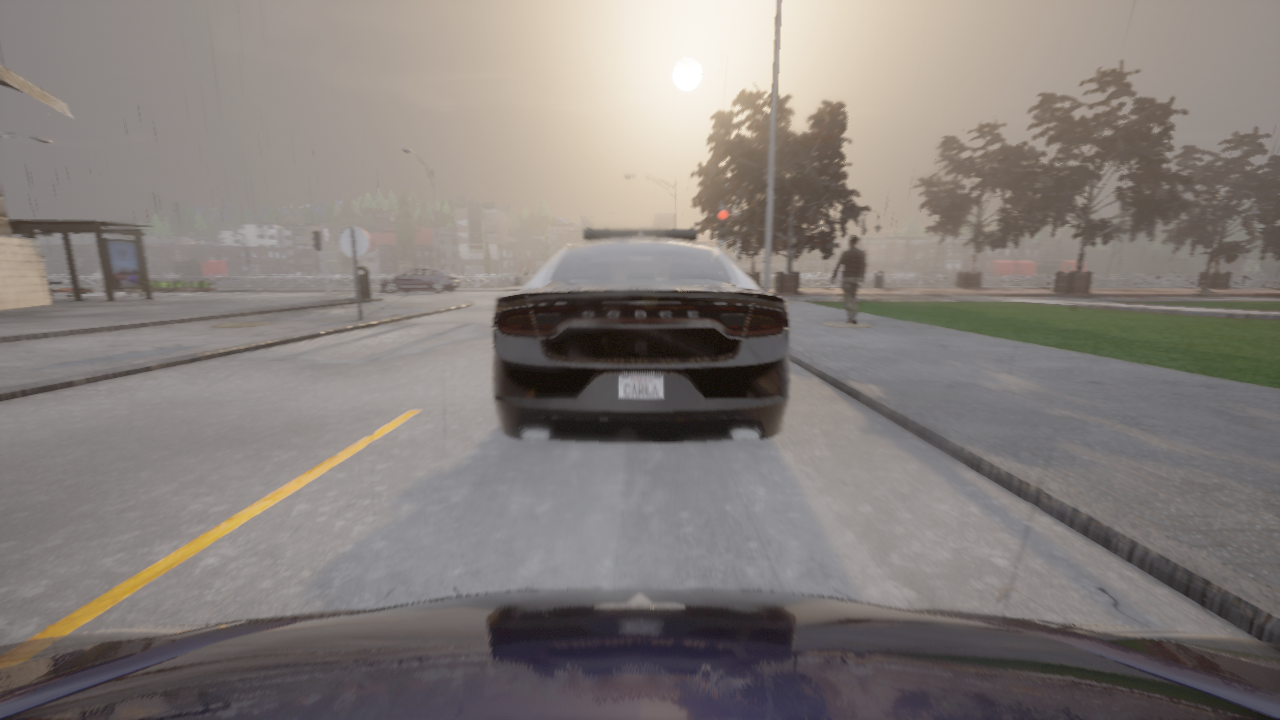cyclist: (0, 588, 1279, 719), (492, 227, 789, 443), (382, 268, 459, 293)
pedestrian: (832, 235, 867, 324), (125, 289, 143, 296)
